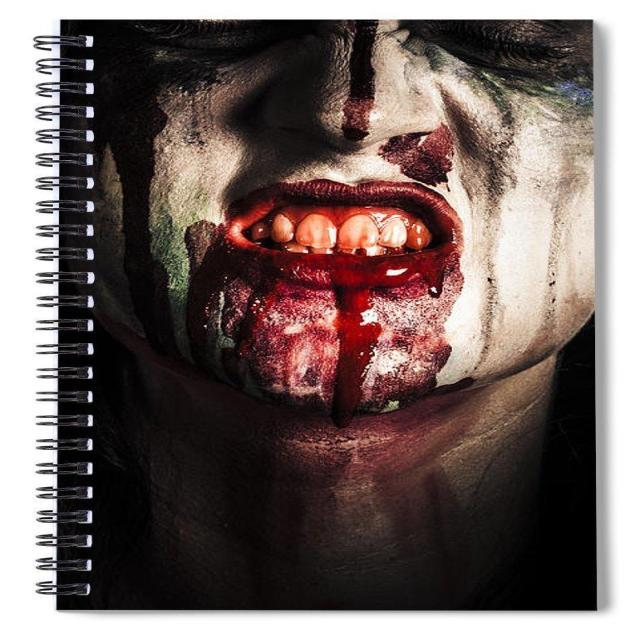flood: (221, 246, 458, 431)
